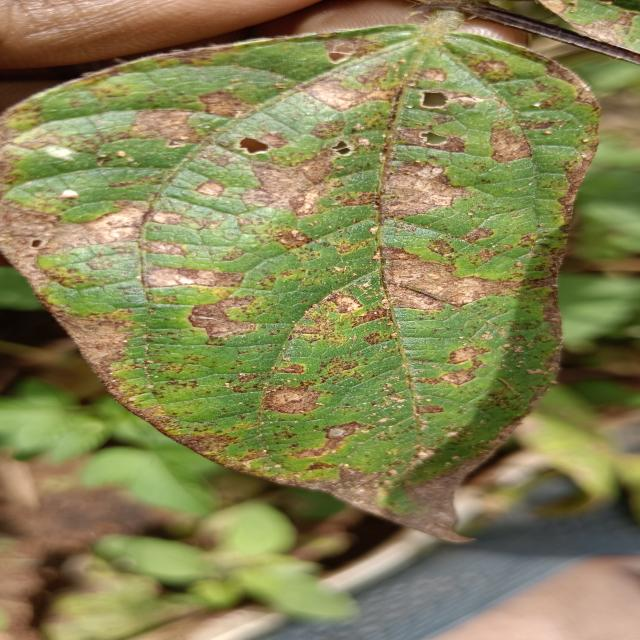Black gram_leaf spot: (7, 23, 593, 521)
